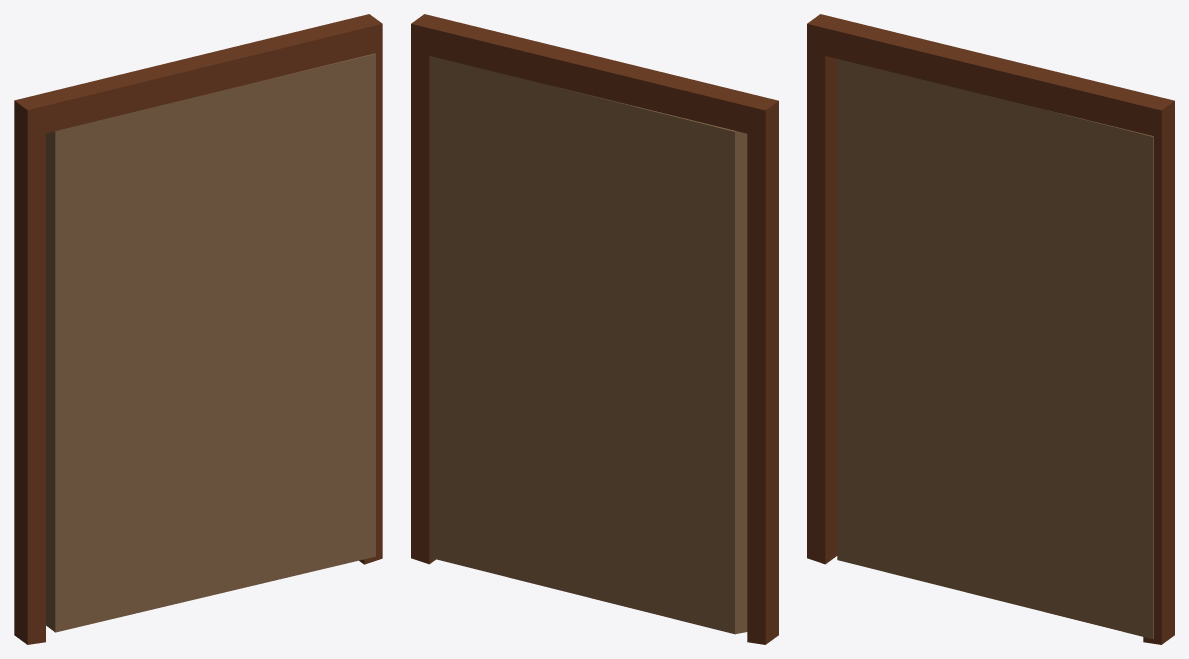
File: door.fbx
3 views of the same model, side by side, from view 1: azimuth 30°, elevation 25°; view 2: azimuth 150°, elevation 25°; view 3: azimuth 330°, elevation 25° (orthographic).
Visible parts, largest first — view 1: Cube.001, Cube; view 2: Cube.001, Cube; view 3: Cube.001, Cube.
Boxes of the visible parts, x1=… form: Cube.001: x1=46, y1=53, x2=375, y2=632; Cube: x1=14, y1=14, x2=382, y2=644; Cube.001: x1=430, y1=56, x2=747, y2=634; Cube: x1=411, y1=14, x2=778, y2=644; Cube.001: x1=837, y1=59, x2=1153, y2=639; Cube: x1=807, y1=14, x2=1174, y2=644.
Size of the model in its own units: 312 by 451 by 23.84.
